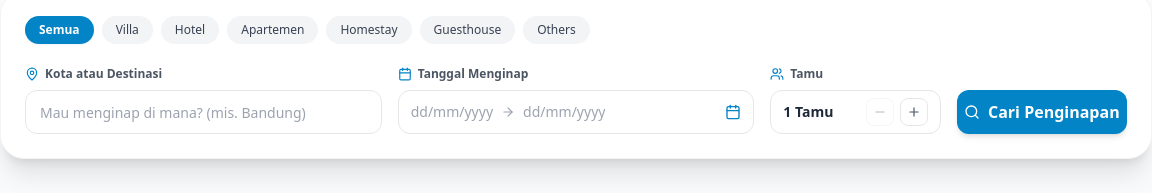
Test case: FloatingSearchWidget Organism › increments and decrements guest count within bounds
Expected: the button named "Kurangi jumlah tamu" is disabled, [866,98,894,126]
Click the button named "Tambah jumlah tamu" at (914, 112), box [900,98,928,126]
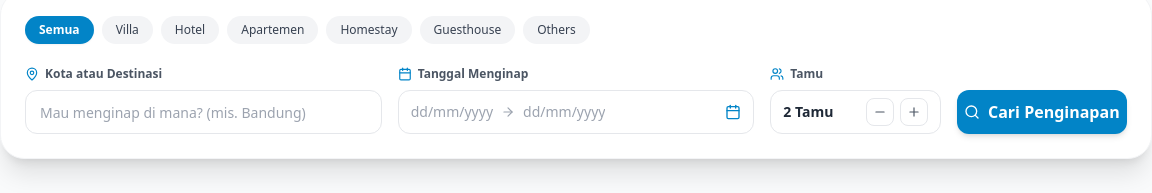
Result: the text "2 Tamu" is shown at [783,102,833,122]
Click the button named "Kurangi jumlah tamu" at (880, 112), box [866,98,894,126]
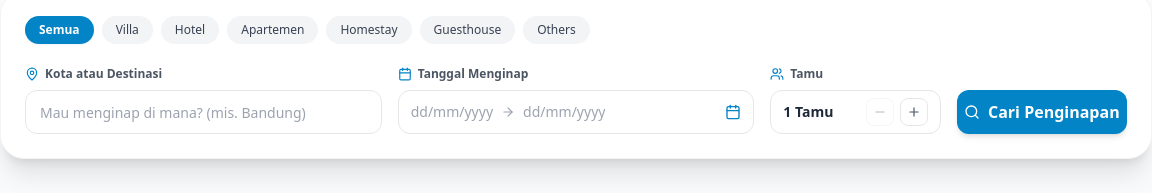
Result: the text "1 Tamu" is shown at [783,102,833,122]
